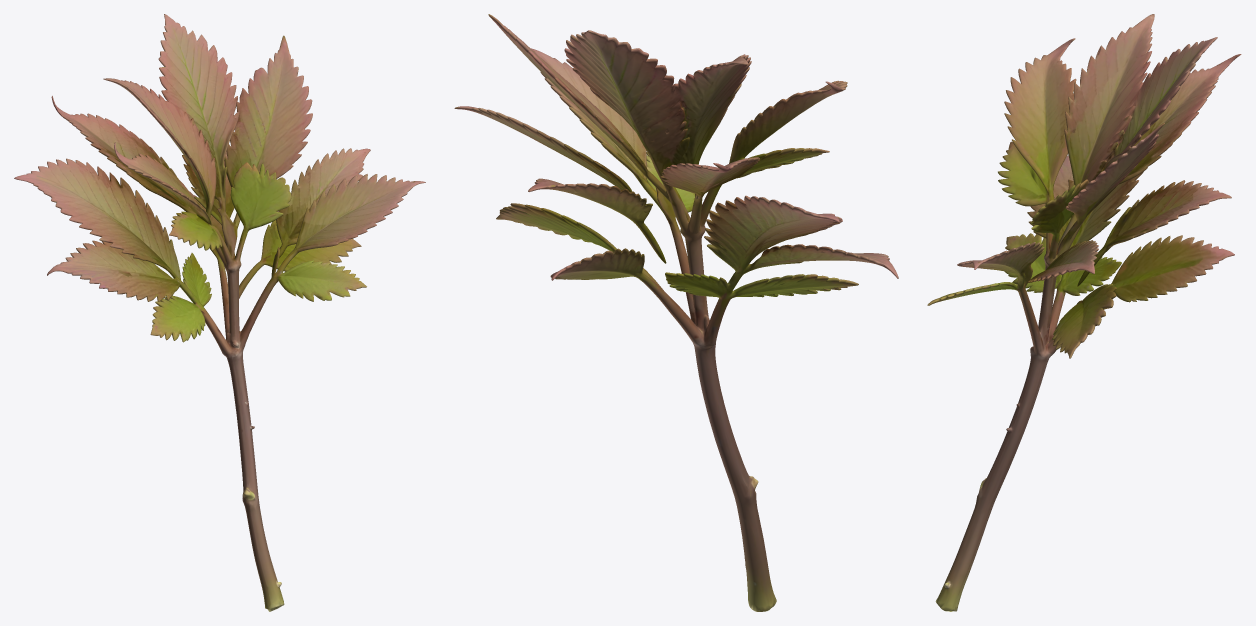
Rendered from xiangchun.glb.
The picture shows the model from 3 angles, left to right: view 1: azimuth 30°, elevation 25°; view 2: azimuth 150°, elevation 25°; view 3: azimuth 270°, elevation 25°; orthographic projection. The views are drawn at different scales.
Visible parts, largest first — view 1: node_0; view 2: node_0; view 3: node_0.
Part boxes in pixels (box(x1,y1,x2,y2)): node_0: box(14, 14, 425, 611); node_0: box(454, 14, 898, 611); node_0: box(927, 14, 1241, 611).
Bounding box in the file's own units: 0.7425 × 1.1 × 0.5422.
1 material, 1 textured.
